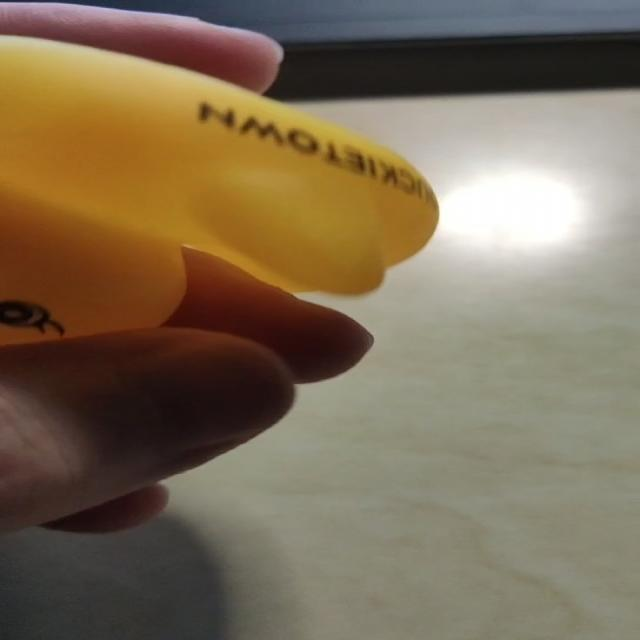rubber-duck: (0, 35, 436, 343)
